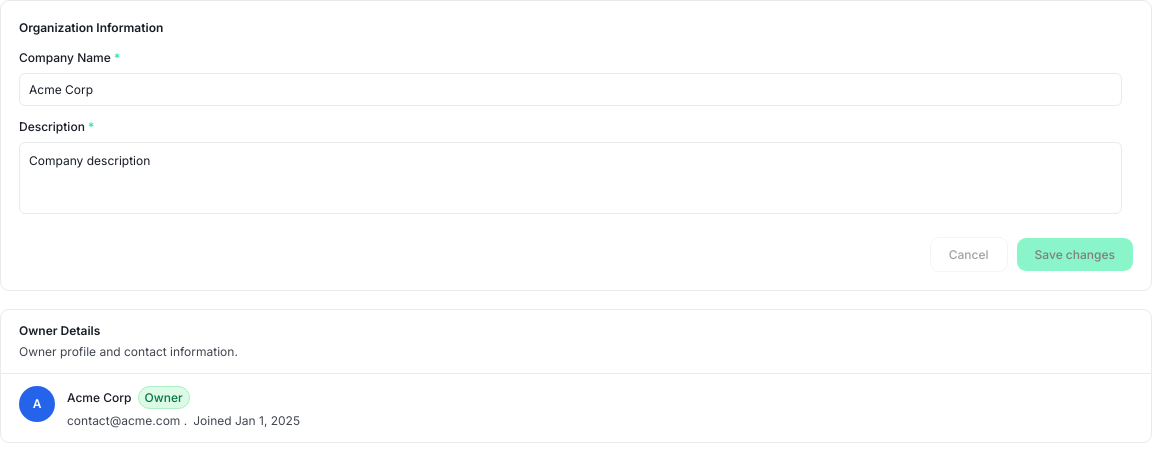
Test: TenantSettingsTab › Form interaction › resets form when cancel is clicked with changes
Step 1. Replace the text in the field labelled "Company Name *" with "Temp" → [570, 90], box [19,73,1122,106]
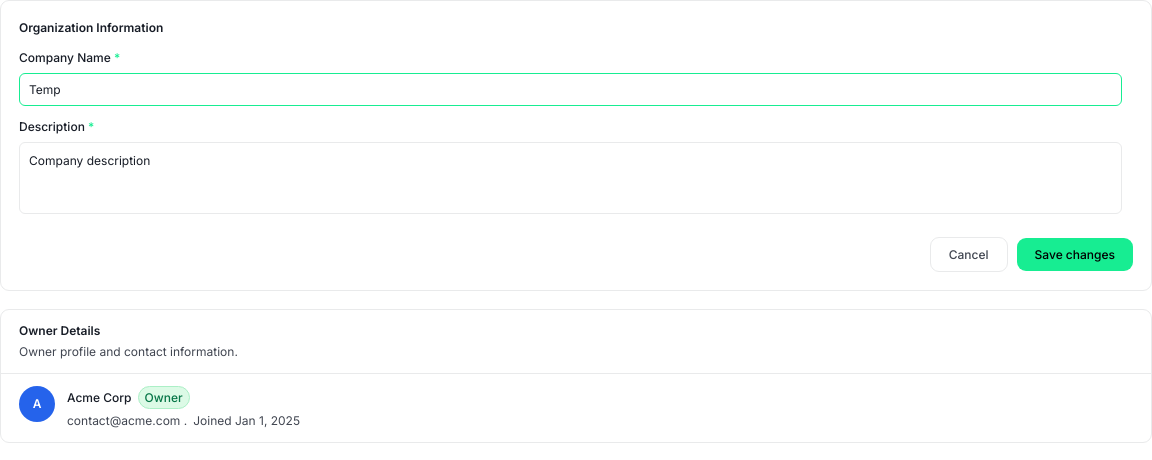
Step 2. Click the button "Cancel" → [969, 254], box [930,237,1008,272]
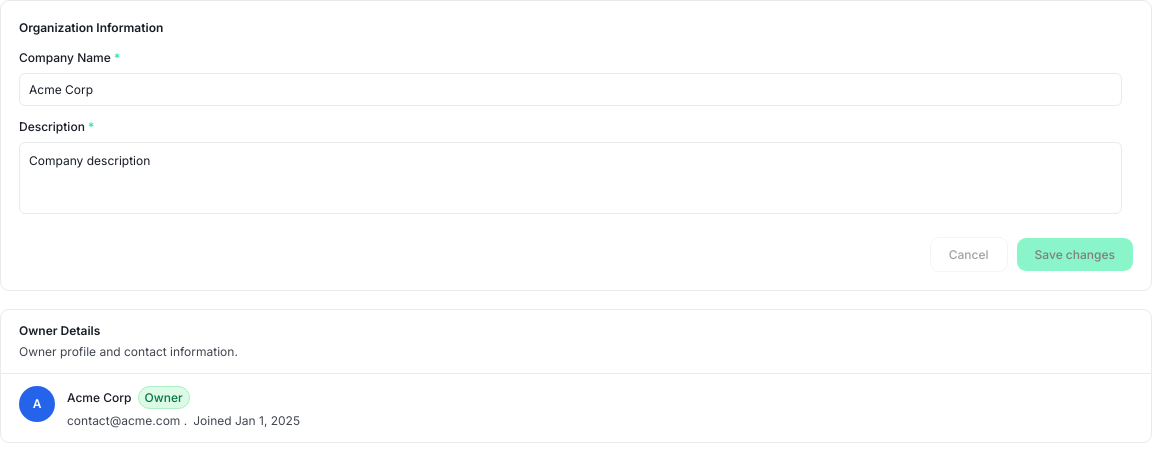
Check: the field labelled "Company Name *" holds "Acme Corp", box [19,73,1122,106]
